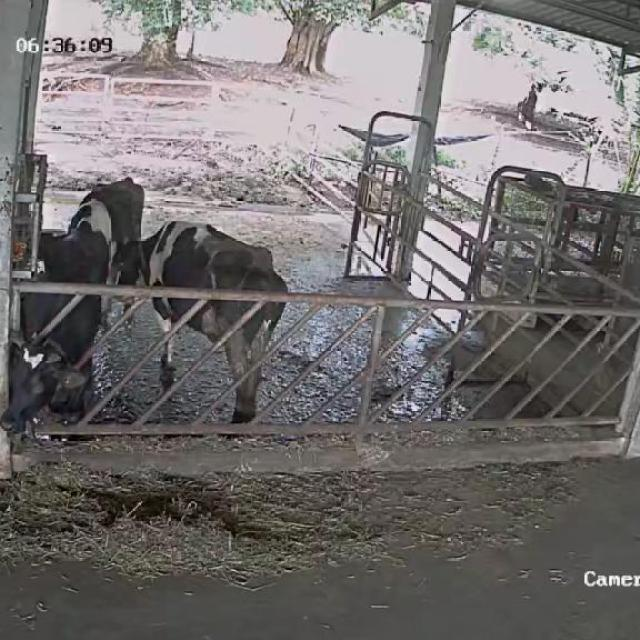feeding: (0, 231, 111, 465)
standing: (113, 213, 285, 434), (63, 175, 146, 316)
